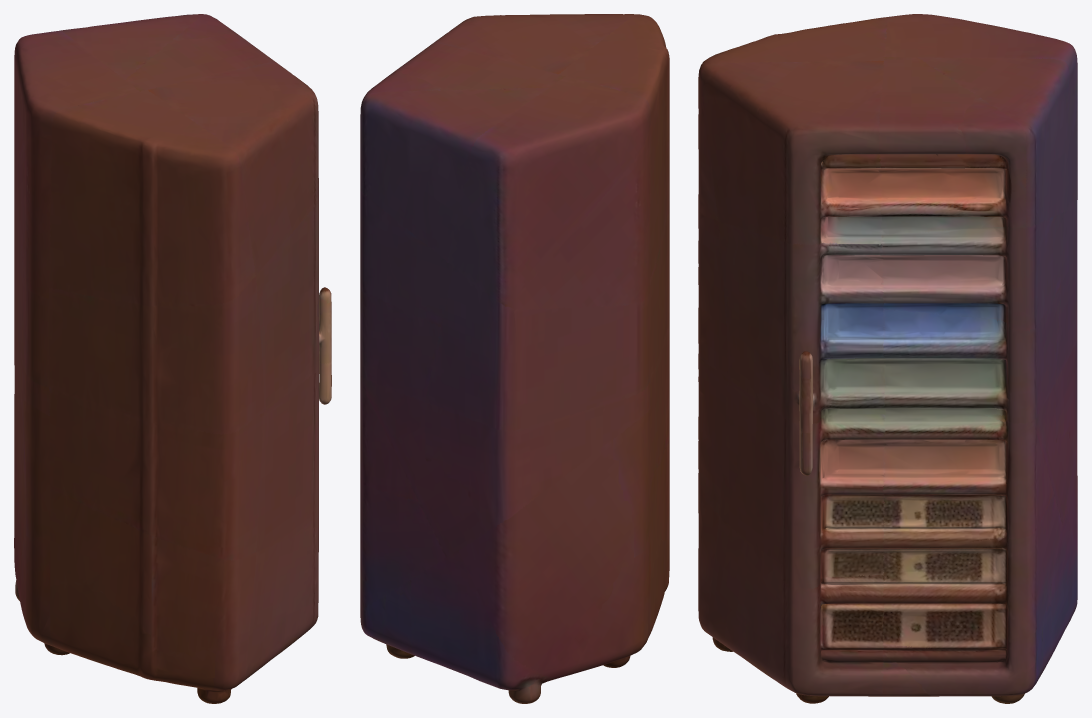
Rendered from server_rack.glb.
3 views of the same model, side by side, from view 1: azimuth 30°, elevation 25°; view 2: azimuth 150°, elevation 25°; view 3: azimuth 270°, elevation 25° (orthographic). The views are drawn at different scales.
Visible parts, largest first — view 1: tripo_node_11129bab-6a3f-4448-b11f-2a756f75ec0a; view 2: tripo_node_11129bab-6a3f-4448-b11f-2a756f75ec0a; view 3: tripo_node_11129bab-6a3f-4448-b11f-2a756f75ec0a.
Boxes of the visible parts, <box> form: tripo_node_11129bab-6a3f-4448-b11f-2a756f75ec0a: <box>14,14,331,703</box>; tripo_node_11129bab-6a3f-4448-b11f-2a756f75ec0a: <box>360,14,669,703</box>; tripo_node_11129bab-6a3f-4448-b11f-2a756f75ec0a: <box>698,14,1077,703</box>.
Bounding box in the file's own units: 0.4408 × 0.9488 × 0.5527.
1 material, 1 textured.
